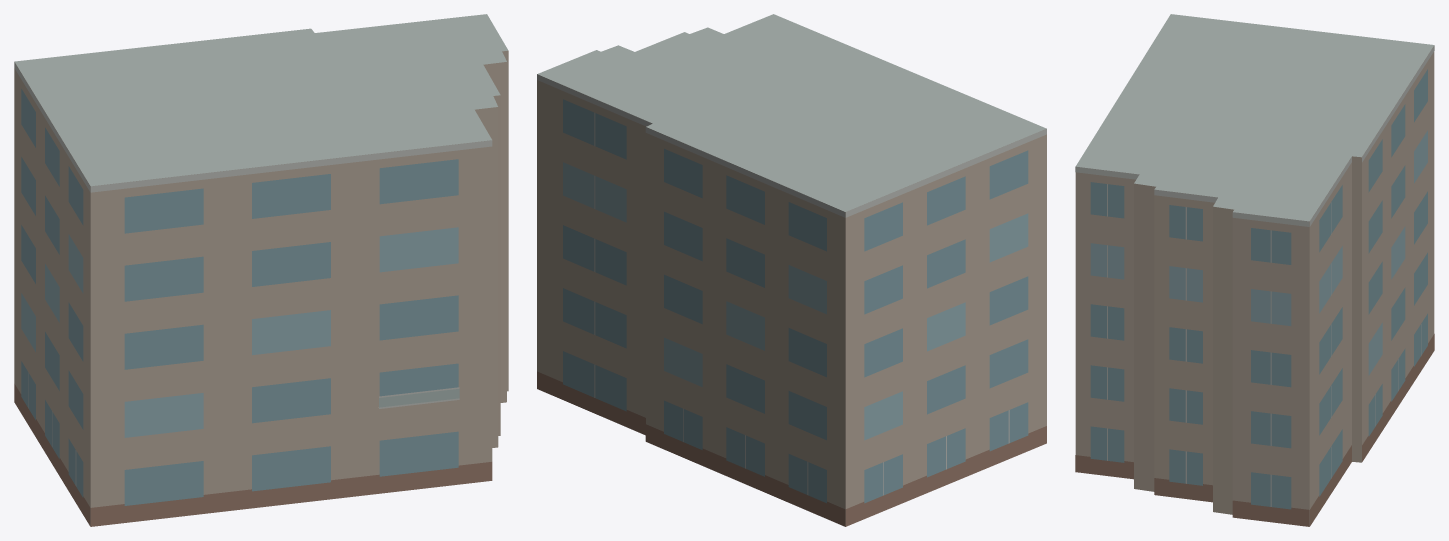
File: survey-upis-32630845.glb
3 views of the same model, side by side, from view 1: azimuth 30°, elevation 25°; view 2: azimuth 150°, elevation 25°; view 3: azimuth 270°, elevation 25° (orthographic). The views are drawn at different scales.
Visible parts, largest first — view 1: survey-upis-32630845.tmp; view 2: survey-upis-32630845.tmp; view 3: survey-upis-32630845.tmp.
Part boxes in pixels (box(x1,y1,x2,y2)): survey-upis-32630845.tmp: box(14, 14, 508, 526); survey-upis-32630845.tmp: box(537, 14, 1046, 526); survey-upis-32630845.tmp: box(1075, 14, 1434, 526).
Bounding box in the file's own units: 19.16 × 13.15 × 14.02.
